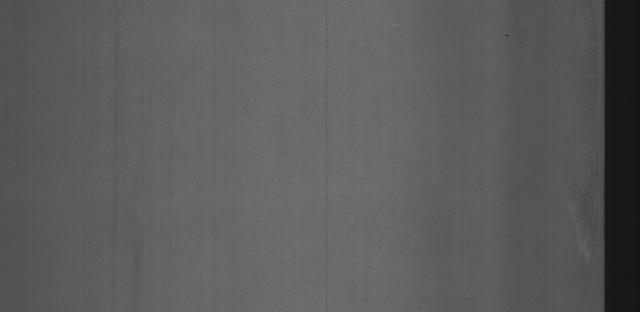inclusion: (502, 23, 526, 50)
water_spot: (559, 169, 600, 268)
